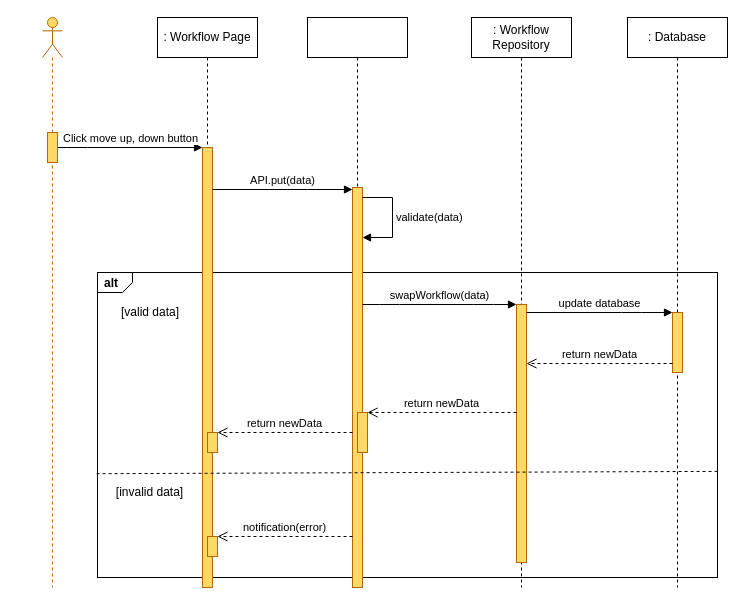
This 745x605 diagram has some shape labels left out. Each missing label, with the box of its shape:
: Workflow Controller: (306, 16, 408, 588)
Administrator: (42, 16, 62, 588)
